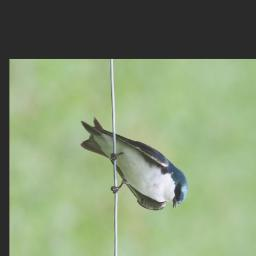Swallow: (79, 112, 188, 215)
